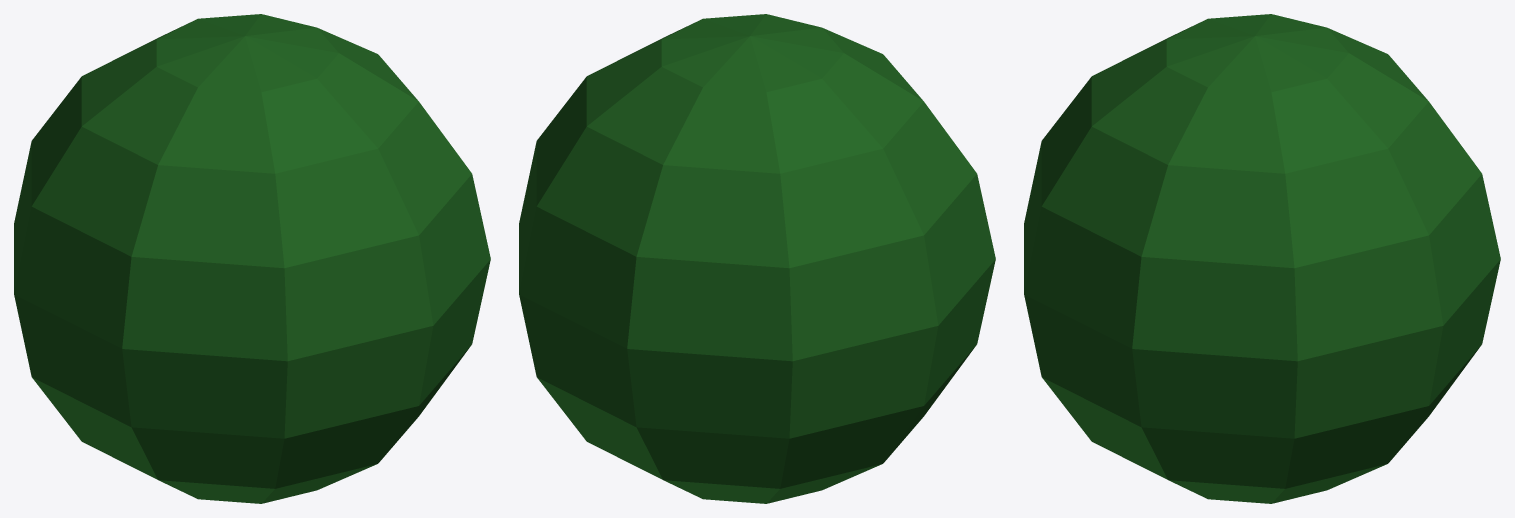
The model's file is Plant.fbx.
3 renders of one model, left to right at view 1: azimuth 30°, elevation 25°; view 2: azimuth 150°, elevation 25°; view 3: azimuth 270°, elevation 25°, orthographic.
Parts seen in each view (by area): view 1: Sphere; view 2: Sphere; view 3: Sphere.
Boxes of the visible parts, x1,y1,x2,y2 form: Sphere: [14, 14, 490, 503]; Sphere: [519, 14, 995, 503]; Sphere: [1024, 14, 1500, 503].
Size of the model in its own units: 197 by 200 by 194.
